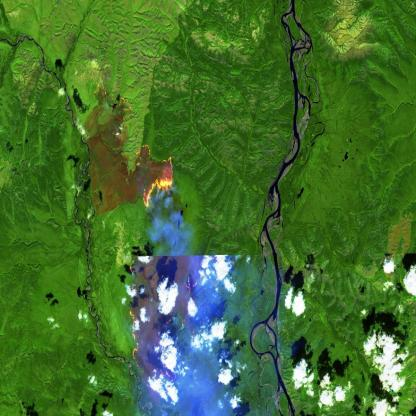fire: (133, 140, 176, 212), (123, 255, 148, 374)
